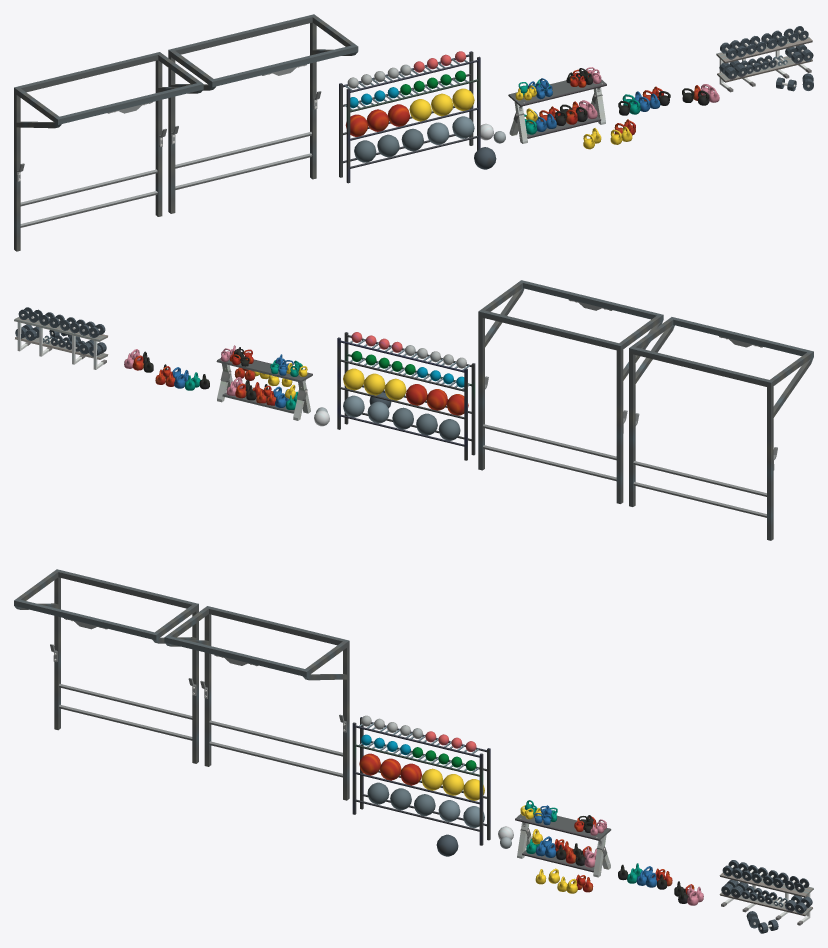
The model's file is gym_decoration_1_v2.glb.
The picture shows the model from 3 angles, top to bottom: view 1: azimuth 30°, elevation 25°; view 2: azimuth 150°, elevation 25°; view 3: azimuth 330°, elevation 25°; orthographic projection. The views are drawn at different scales.
Visible parts, largest first — view 1: GymEquipments_23_GymEquipments_SG_0; view 2: GymEquipments_23_GymEquipments_SG_0; view 3: GymEquipments_23_GymEquipments_SG_0.
Boxes of the visible parts, x1,y1,x2,y2 form: GymEquipments_23_GymEquipments_SG_0: [14, 14, 813, 251]; GymEquipments_23_GymEquipments_SG_0: [14, 280, 813, 540]; GymEquipments_23_GymEquipments_SG_0: [14, 569, 813, 933].
Bounding box in the file's own units: 6.6 × 1.31 × 0.6569.
Materials: 1 (1 with a texture image).
